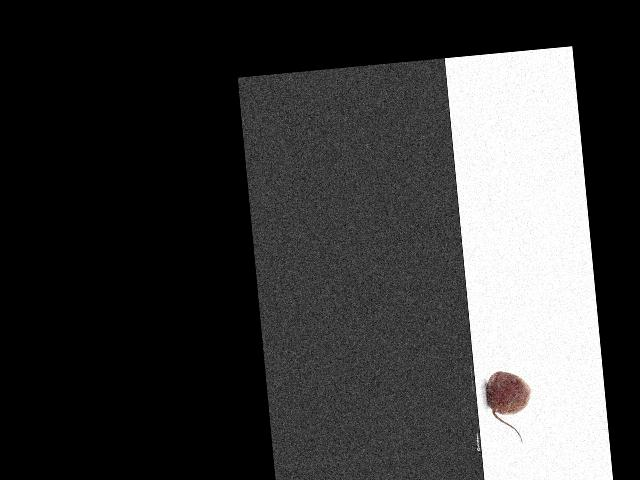beet: (484, 368, 534, 444)
